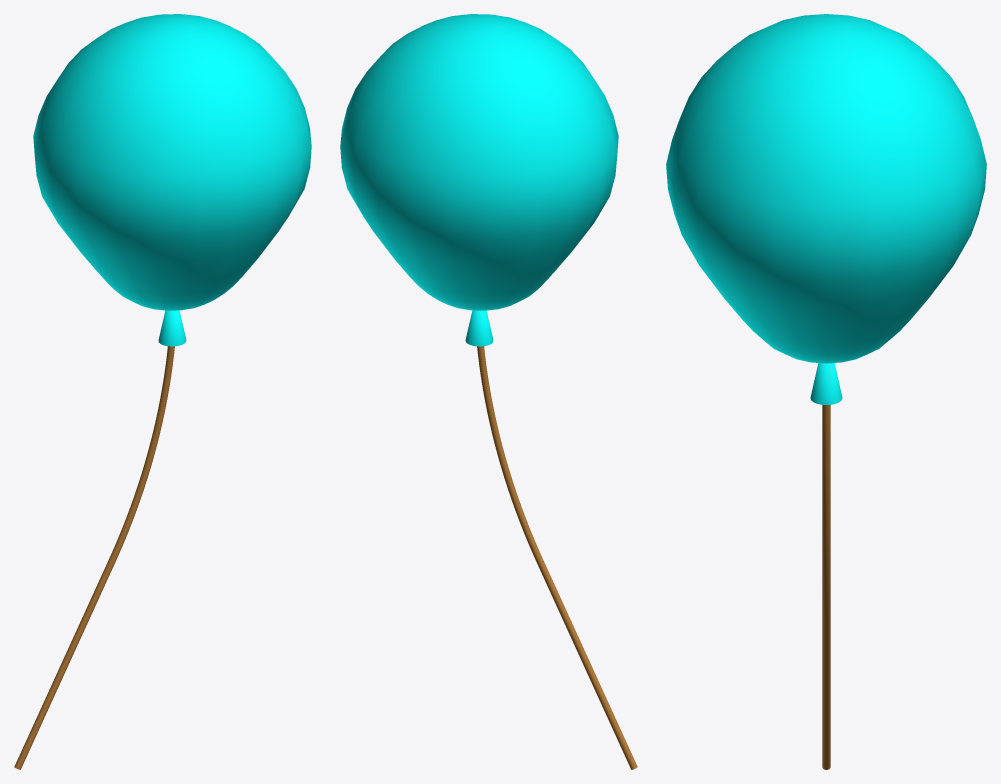
File: BalloonAqua.fbx
The picture shows the model from 3 angles, left to right: view 1: azimuth 30°, elevation 25°; view 2: azimuth 150°, elevation 25°; view 3: azimuth 270°, elevation 25°; orthographic projection. The views are drawn at different scales.
Visible parts, largest first — view 1: pCylinder2; view 2: pCylinder2; view 3: pCylinder2.
Boxes of the visible parts, bbox=[...] form: pCylinder2: bbox=[14, 14, 311, 769]; pCylinder2: bbox=[340, 14, 637, 769]; pCylinder2: bbox=[666, 14, 986, 769].
Size of the model in its own units: 11.48 by 27.67 by 9.71.
1 material, 1 textured.
